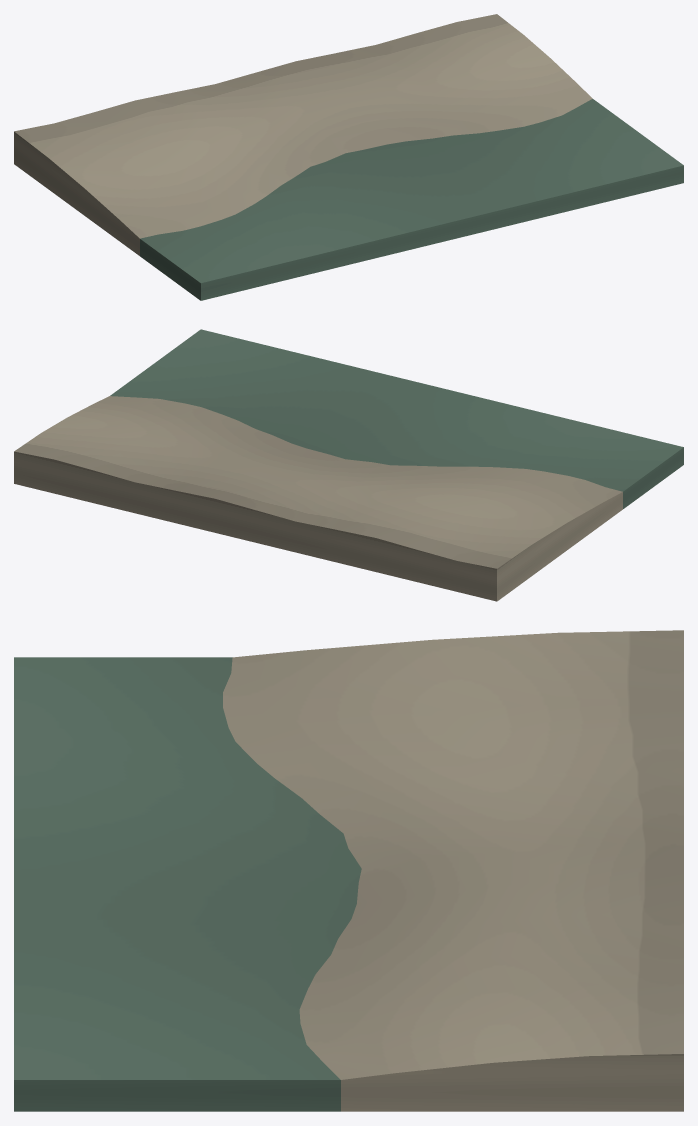
The picture shows the model from 3 angles, top to bottom: view 1: azimuth 30°, elevation 25°; view 2: azimuth 150°, elevation 25°; view 3: azimuth 270°, elevation 25°; orthographic projection. The views are drawn at different scales.
Parts seen in each view (by area): view 1: chagos; view 2: chagos; view 3: chagos.
Boxes of the visible parts, <box> form: chagos: <box>14,14,683,300</box>; chagos: <box>14,329,683,601</box>; chagos: <box>14,630,683,1111</box>.
Bounding box in the file's own units: 7.76 × 0.524 × 5.2.
1 material, 1 textured.
